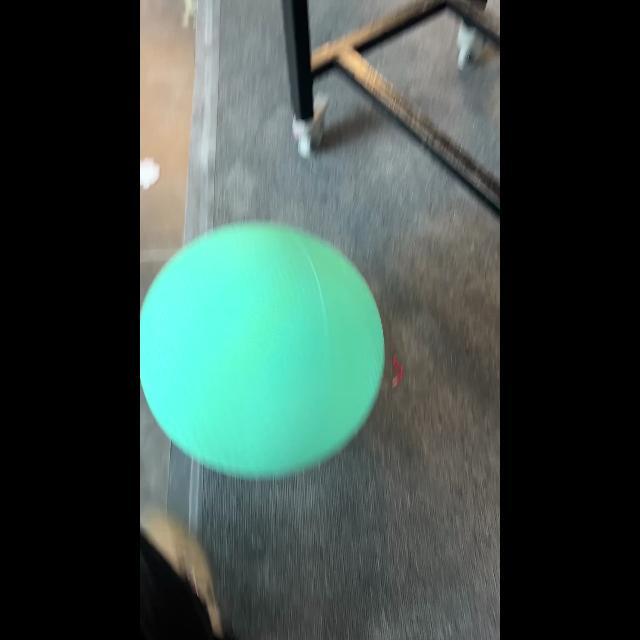ALGAE: (140, 220, 386, 480)
